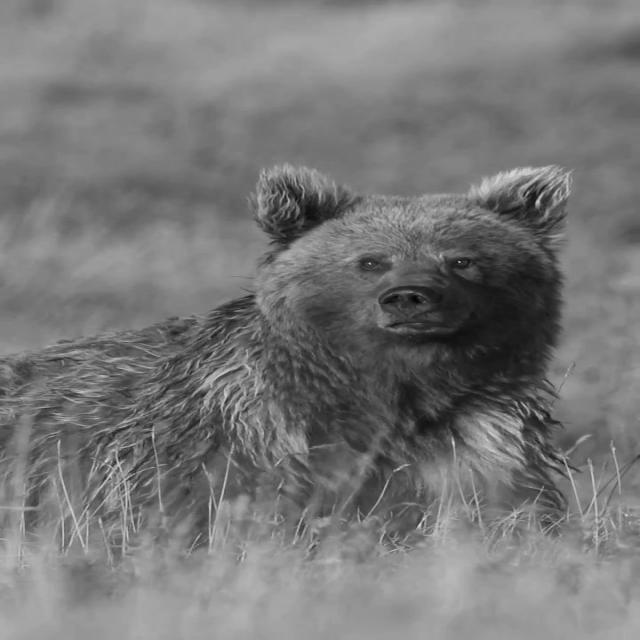Bear: (0, 162, 582, 568)
